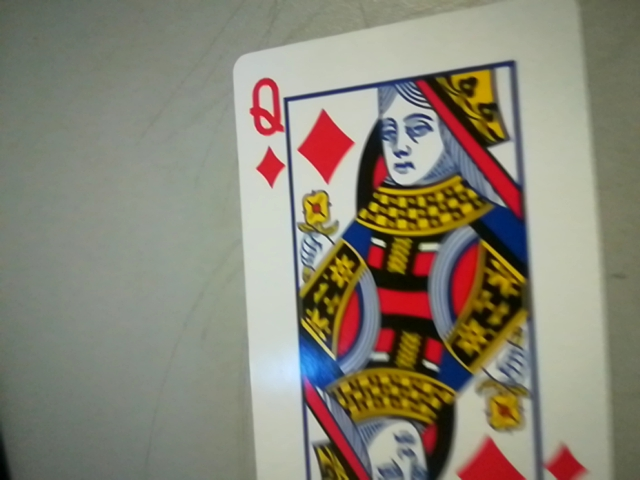fk q: (237, 68, 292, 188)
